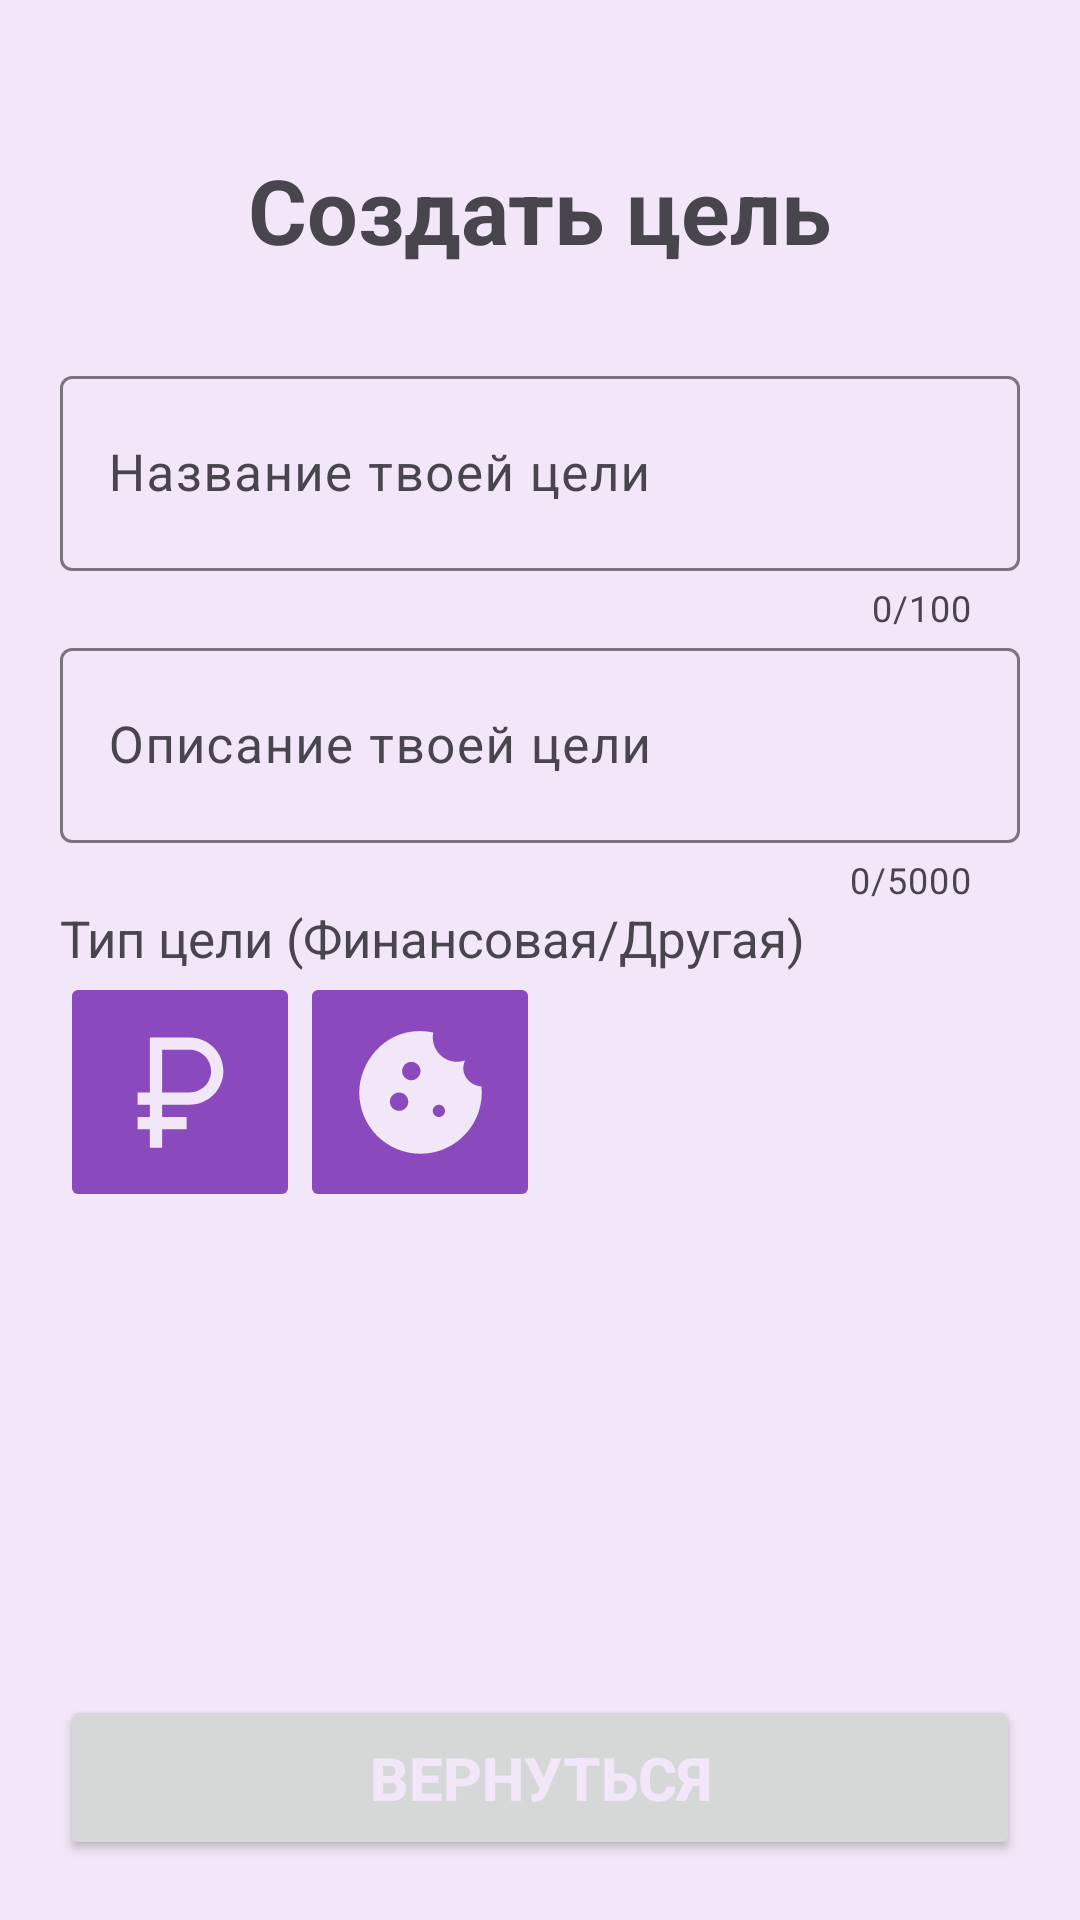

Named icons in this screenshot (1080×1920) and their centers, (x=x, y=y):
cookie: (x=420, y=1092)
currency ruble: (x=180, y=1092)
